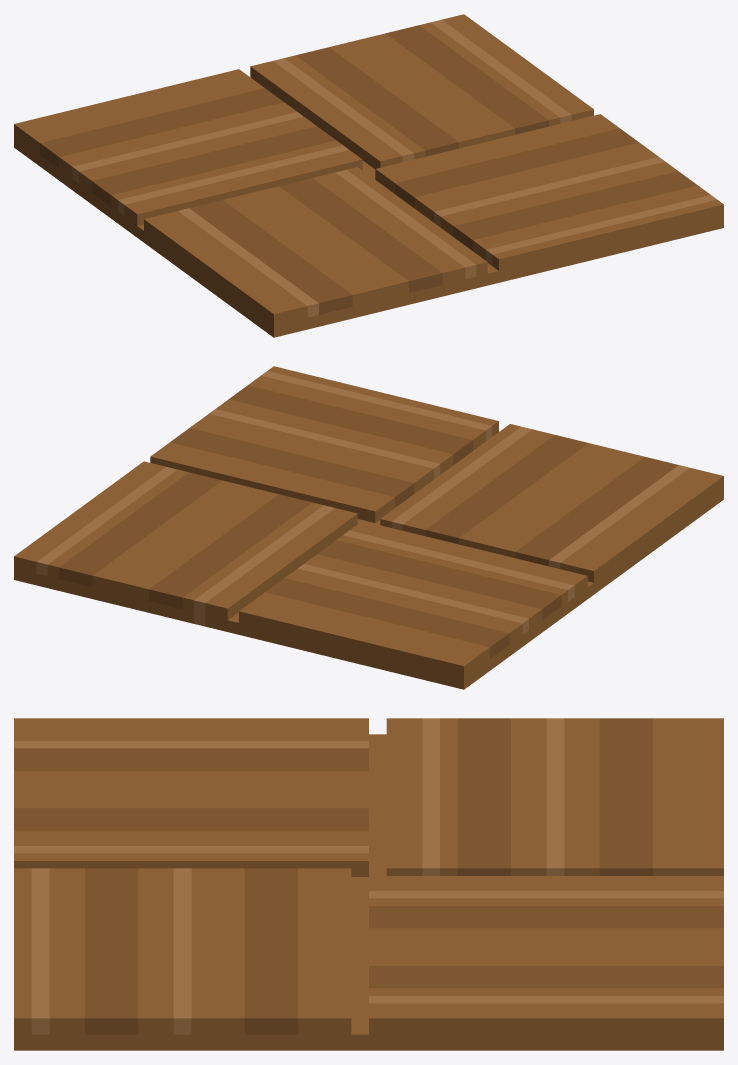
The model's file is yasiki_tile.obj.
3 renders of one model, top to bottom at view 1: azimuth 30°, elevation 25°; view 2: azimuth 150°, elevation 25°; view 3: azimuth 270°, elevation 25°, orthographic. The views are drawn at different scales.
Size of the model in its own units: 4 by 0.2 by 4.
Materials: 1 (1 with a texture image).
